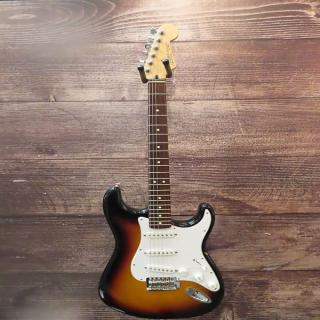Fender Stratocaster: (97, 23, 231, 320)
SSS: (143, 227, 186, 279)
